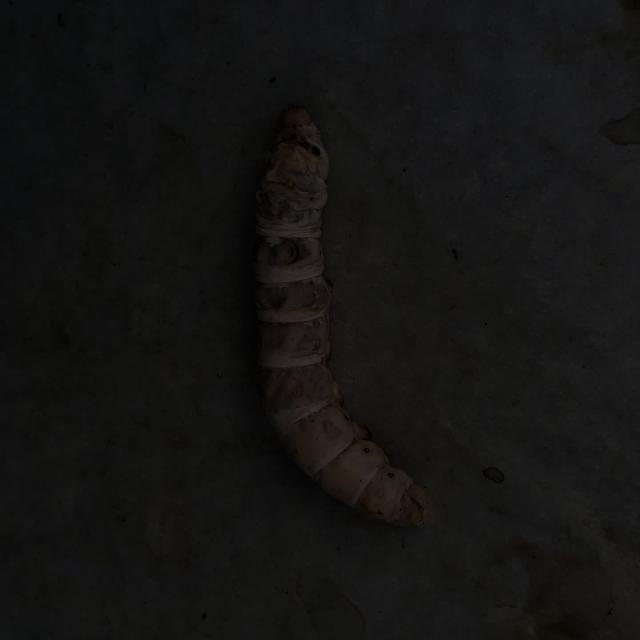Grasserie: (235, 89, 462, 548)
